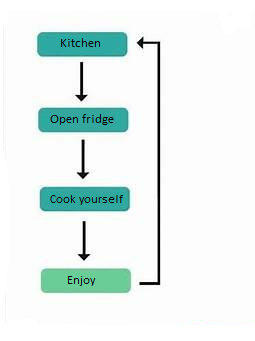arrow: (134, 35, 162, 287), (76, 220, 92, 262), (73, 59, 88, 102), (75, 138, 90, 180)
process: (35, 30, 129, 59), (38, 185, 131, 213), (39, 266, 132, 294), (36, 107, 130, 133)
text: (48, 193, 125, 206), (48, 112, 115, 126), (59, 37, 101, 48), (65, 273, 97, 287)
